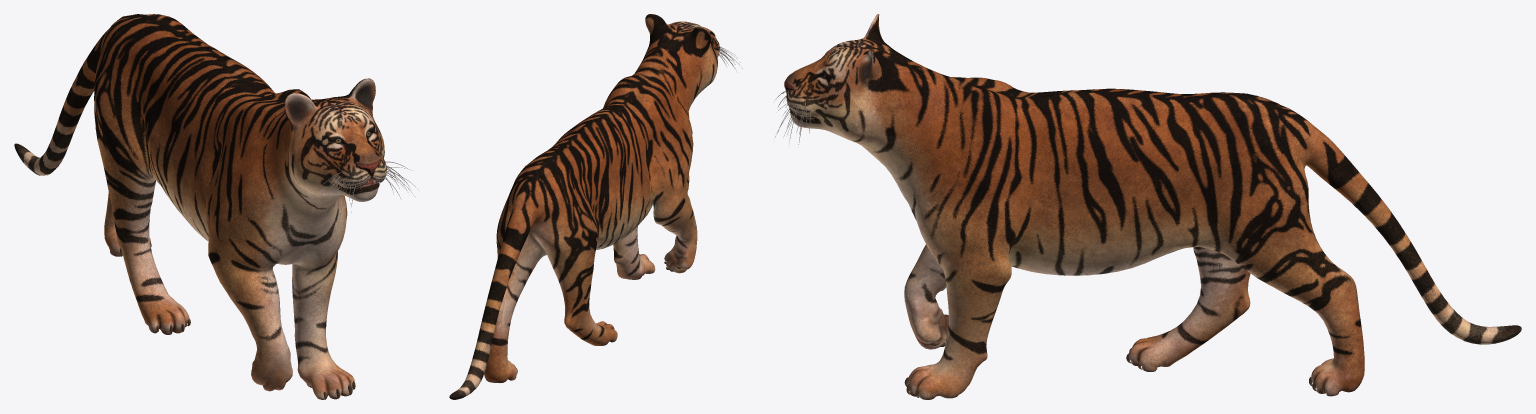
Rendered from tiger.glb.
3 renders of one model, left to right at view 1: azimuth 30°, elevation 25°; view 2: azimuth 150°, elevation 25°; view 3: azimuth 270°, elevation 25°, orthographic. The views are drawn at different scales.
Visible parts, largest first — view 1: tiger.1_1; view 2: tiger.1_1; view 3: tiger.1_1.
Boxes of the visible parts, <box> form: tiger.1_1: <box>14,14,415,399</box>; tiger.1_1: <box>449,14,742,399</box>; tiger.1_1: <box>774,14,1521,399</box>.
Bounding box in the file's own units: 0.6588 × 1.8 × 3.53.
Materials: 1 (1 with a texture image).
